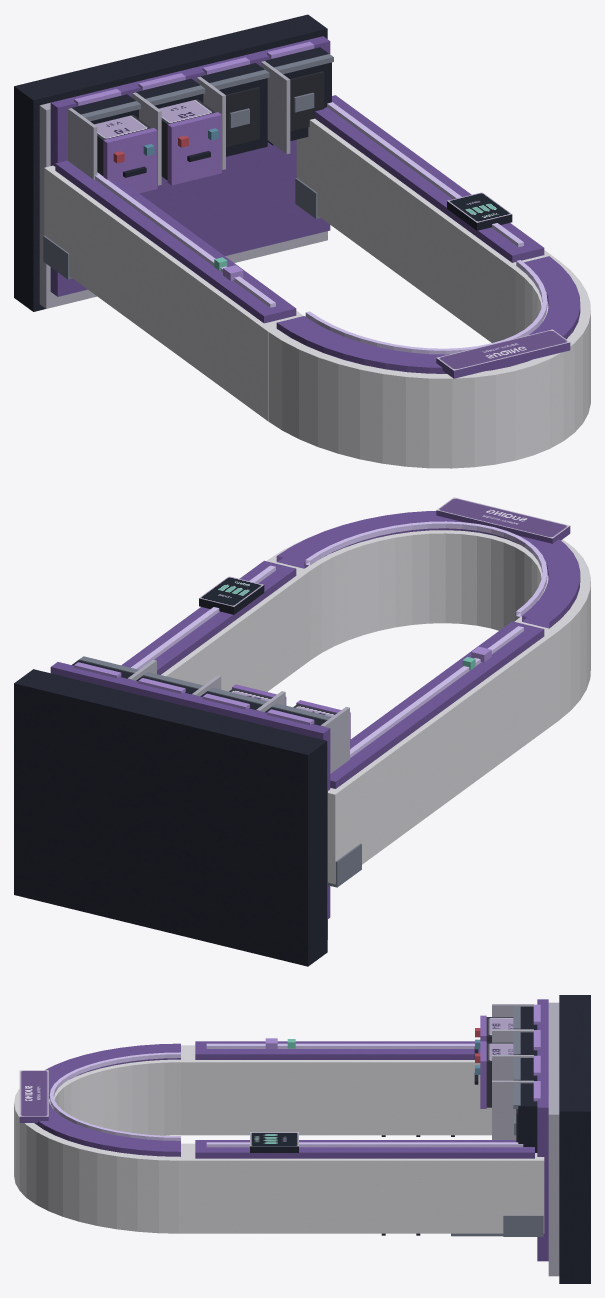
File: portal_3.obj
The picture shows the model from 3 angles, top to bottom: view 1: azimuth 30°, elevation 25°; view 2: azimuth 150°, elevation 25°; view 3: azimuth 270°, elevation 25°; orthographic projection. The views are drawn at different scales.
Parts seen in each view (by area): view 1: SuQingPortal_mask_3; view 2: SuQingPortal_mask_3; view 3: SuQingPortal_mask_3.
Boxes of the visible parts, x1,y1,x2,y2 form: SuQingPortal_mask_3: (14,14,590,468); SuQingPortal_mask_3: (14,497,590,966); SuQingPortal_mask_3: (14,995,590,1283).
Bounding box in the file's own units: 0.96 × 0.668 × 2.01.
1 material, 1 textured.
